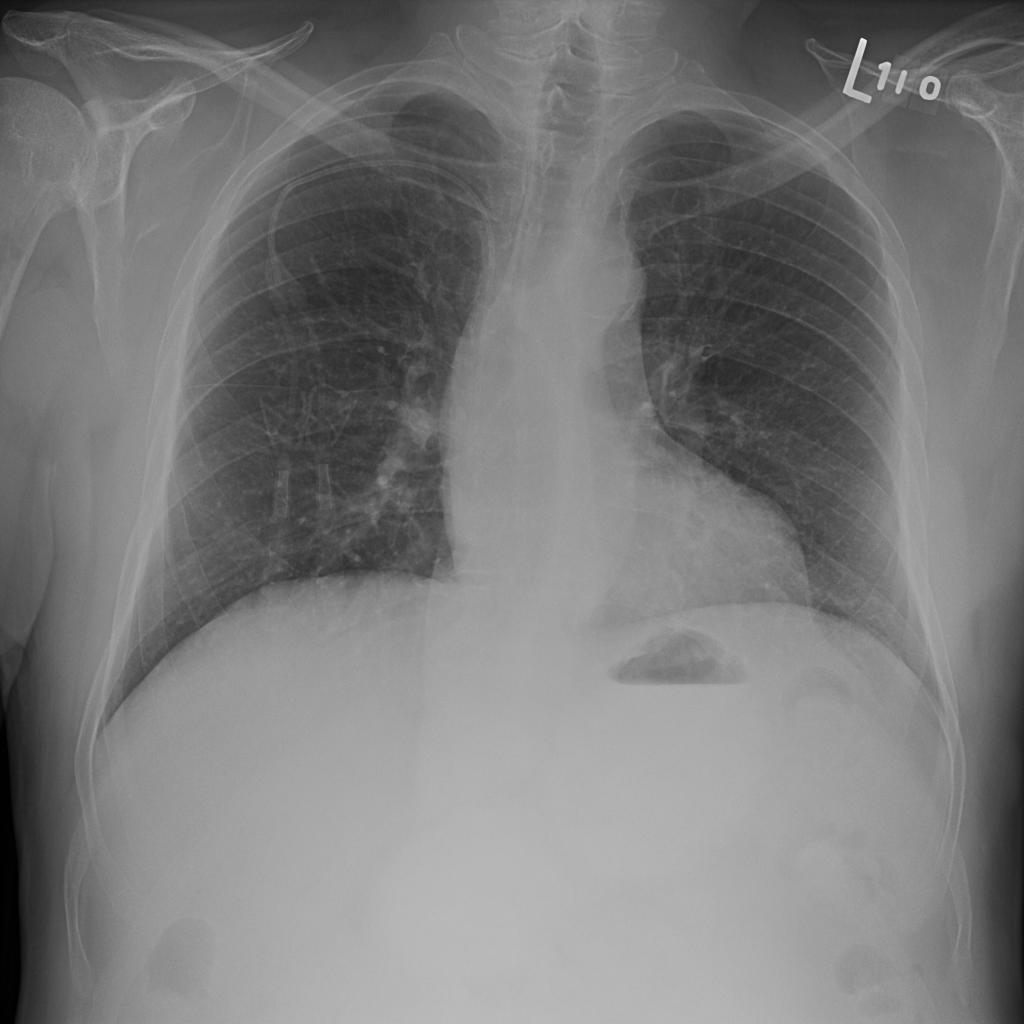Nodule: (195, 197, 229, 228)
